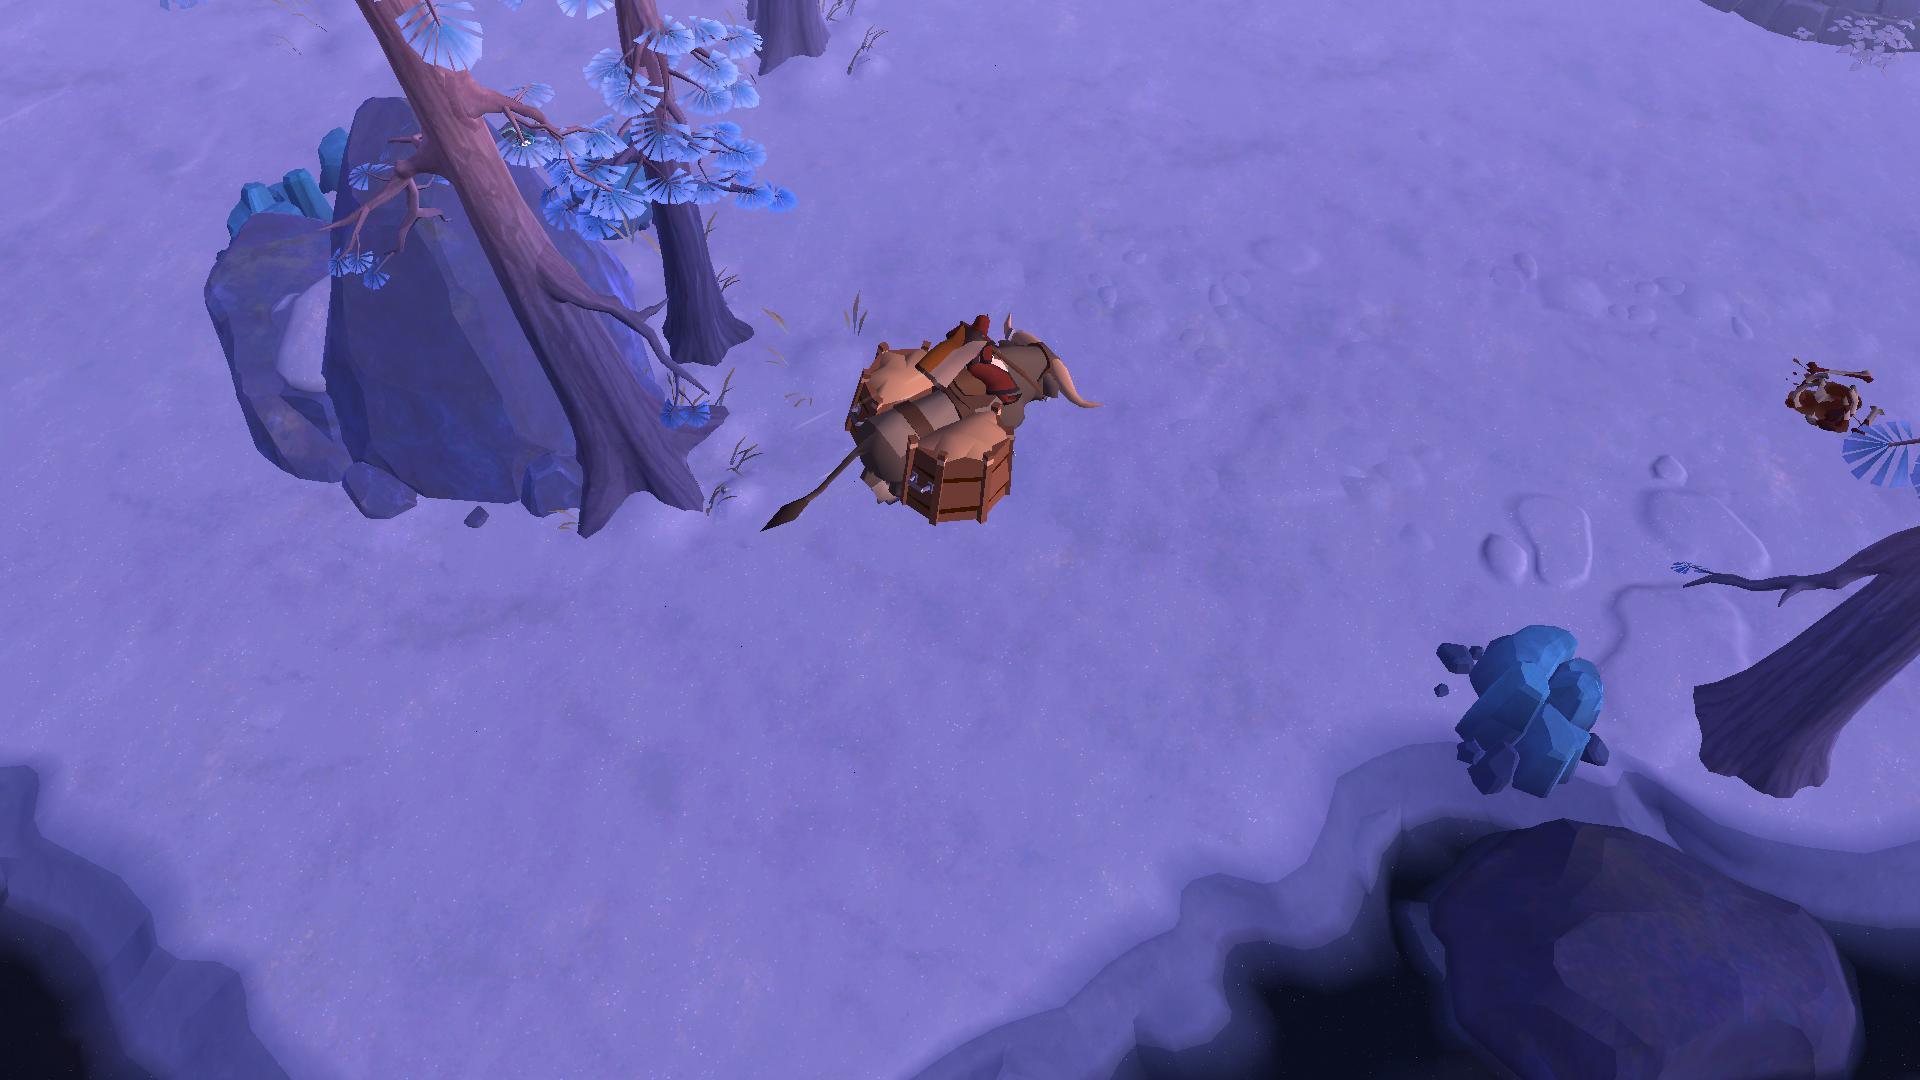rock_t4: (1443, 625, 1617, 799)
